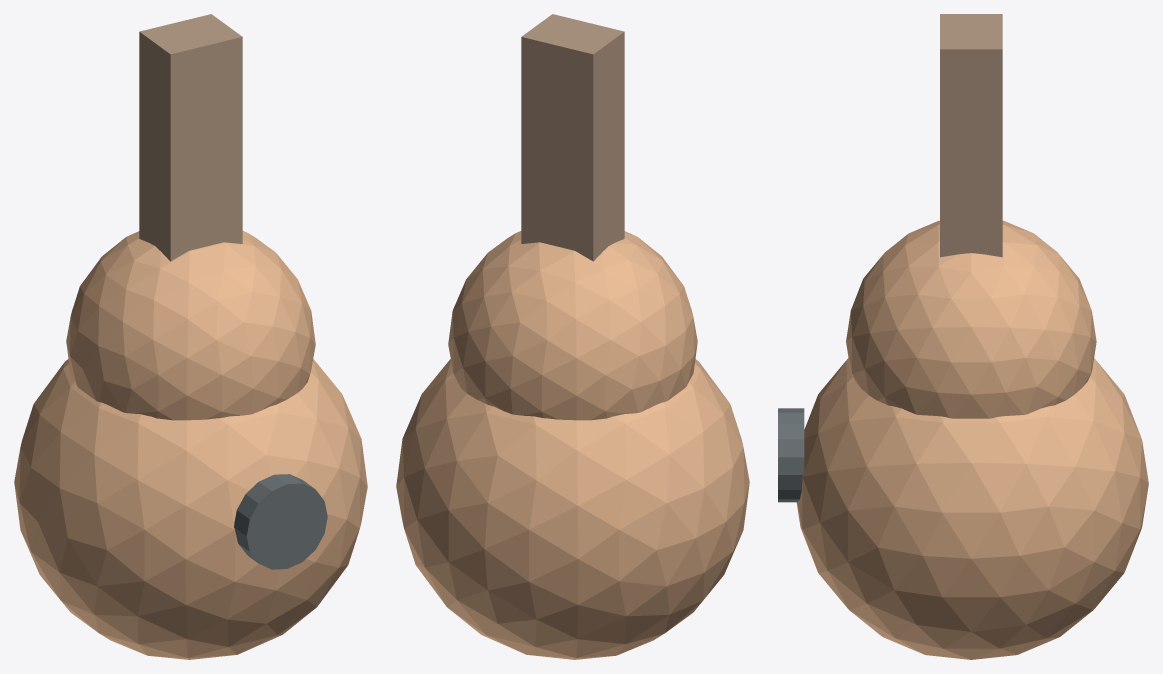
File: guitar_basic.glb
3 views of the same model, side by side, from view 1: azimuth 30°, elevation 25°; view 2: azimuth 150°, elevation 25°; view 3: azimuth 270°, elevation 25° (orthographic).
Visible parts, largest first — view 1: part_01, part_02, part_00, part_03; view 2: part_01, part_02, part_00; view 3: part_01, part_02, part_00, part_03.
Boxes of the visible parts, <box> form: part_01: <box>14,359,367,659</box>; part_02: <box>66,231,315,420</box>; part_00: <box>139,14,242,261</box>; part_03: <box>234,474,327,569</box>; part_01: <box>396,359,749,659</box>; part_02: <box>448,231,697,420</box>; part_00: <box>521,14,624,261</box>; part_01: <box>796,358,1148,659</box>; part_02: <box>846,220,1096,418</box>; part_00: <box>940,14,1002,257</box>; part_03: <box>778,408,804,502</box>.
Size of the model in its own units: 0.68 by 1.3 by 0.71.
